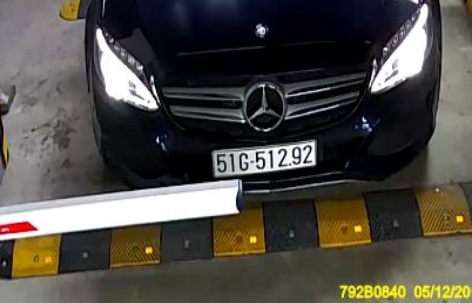plate: (211, 137, 322, 176)
